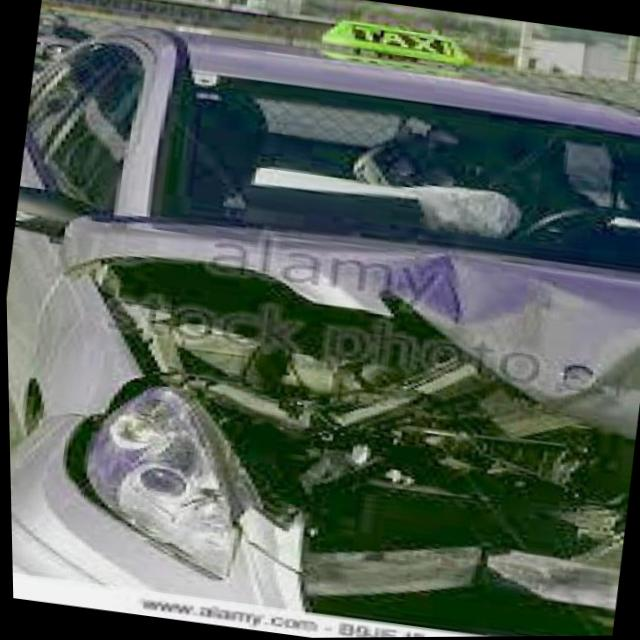Car-Damage: (3, 192, 640, 640)
